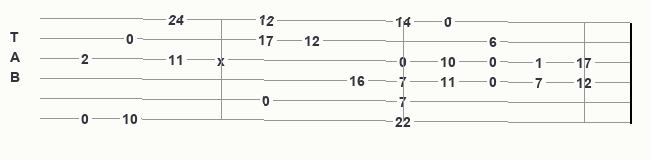0: (81, 113, 93, 127), (126, 33, 138, 47), (262, 93, 274, 107), (399, 53, 411, 67), (444, 13, 456, 27), (489, 53, 501, 67), (489, 73, 501, 87)
1: (535, 53, 547, 67)
10: (122, 113, 142, 127), (440, 53, 460, 67)
11: (168, 53, 188, 67), (440, 73, 460, 87)
12: (258, 13, 278, 27), (304, 33, 324, 47), (576, 73, 596, 87)
14: (395, 13, 415, 27)
16: (349, 73, 369, 87)
17: (258, 33, 278, 47), (576, 53, 596, 67)
2: (81, 53, 93, 67)
22: (395, 113, 415, 127)
24: (168, 13, 188, 27)
6: (489, 33, 501, 47)
7: (399, 93, 411, 107), (399, 73, 411, 87), (535, 73, 547, 87)
x: (217, 54, 229, 66)
